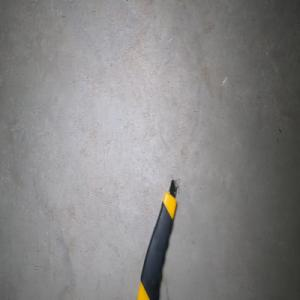Cutter: (137, 178, 178, 300)
